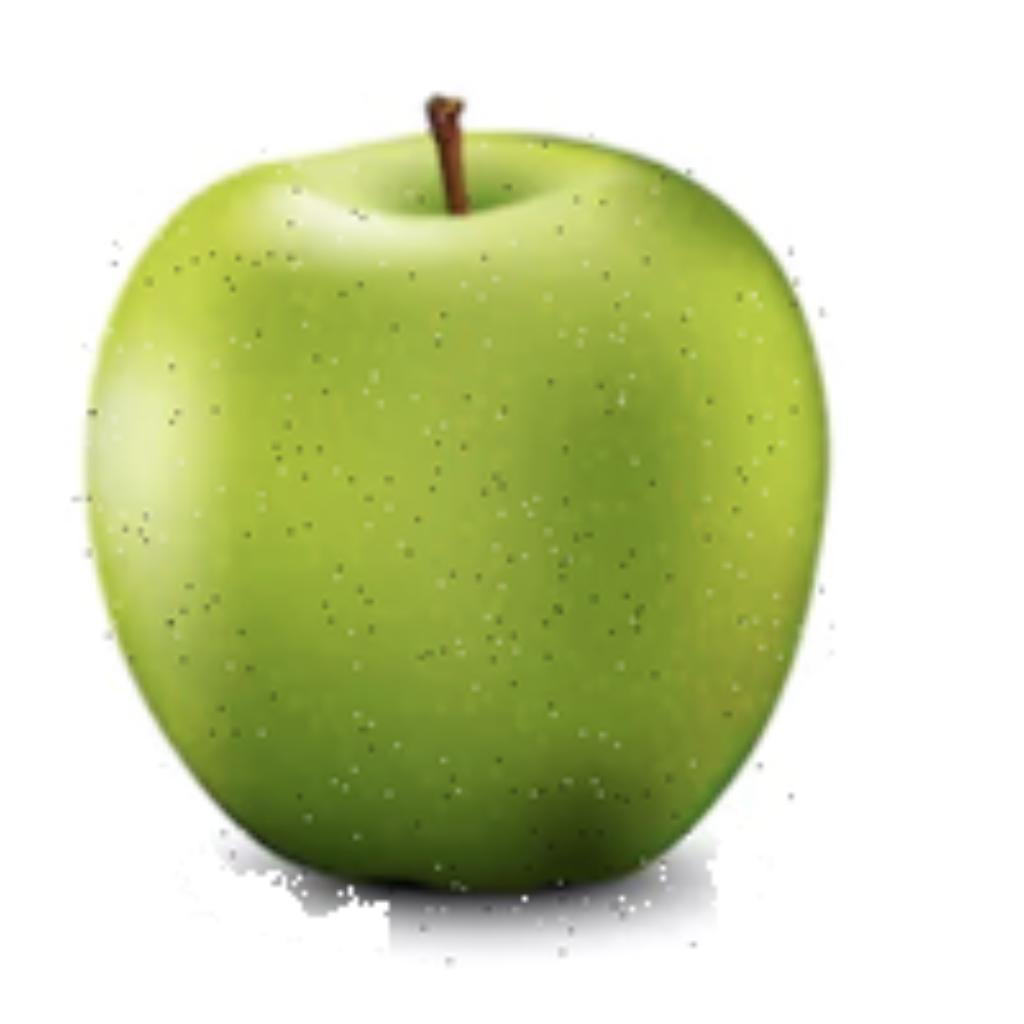apple: (67, 87, 835, 968)
